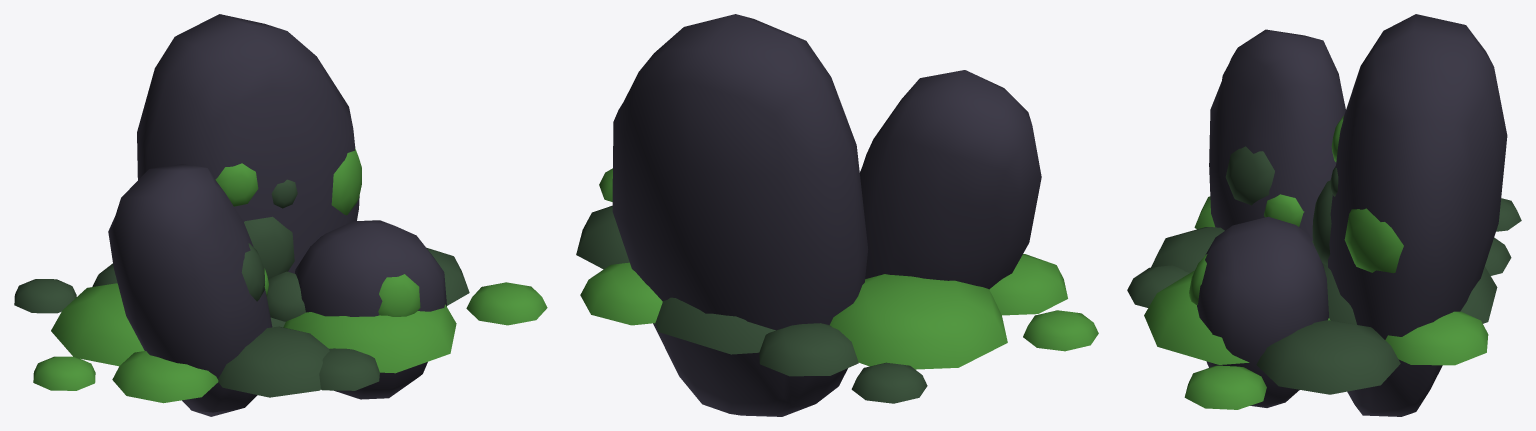
The model's file is s_moss.fbx.
3 renders of one model, left to right at view 1: azimuth 30°, elevation 25°; view 2: azimuth 150°, elevation 25°; view 3: azimuth 270°, elevation 25°, orthographic. The views are drawn at different scales.
Visible parts, largest first — view 1: s_moss_stones, s_moss_empty, s_moss_full; view 2: s_moss_stones, s_moss_empty; view 3: s_moss_stones, s_moss_empty, s_moss_full.
Boxes of the visible parts, <box> form: s_moss_stones: <box>108,14,446,416</box>; s_moss_empty: <box>14,247,547,403</box>; s_moss_full: <box>215,148,420,321</box>; s_moss_stones: <box>612,14,1041,416</box>; s_moss_empty: <box>576,168,1098,403</box>; s_moss_stones: <box>1197,14,1507,416</box>; s_moss_empty: <box>1127,196,1521,409</box>; s_moss_full: <box>1189,116,1403,304</box>.
Bounding box in the file's own units: 284 × 207 × 198.
